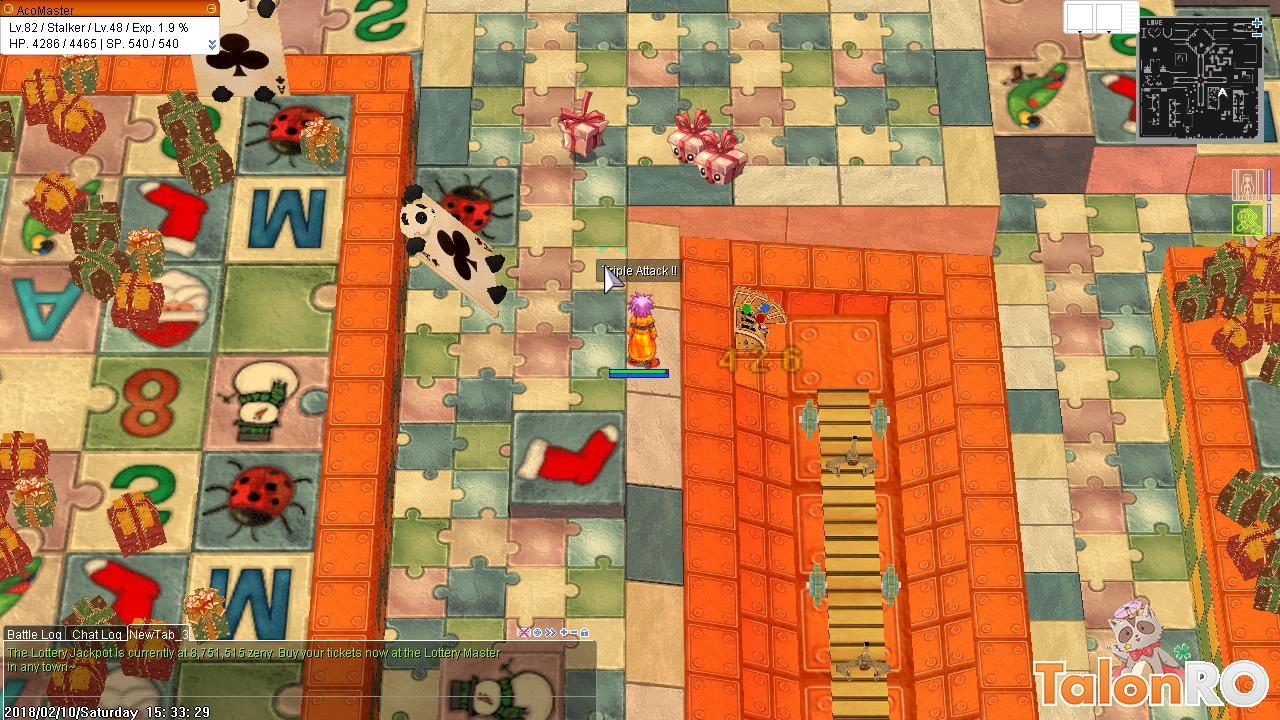myst_case: (557, 88, 609, 164), (696, 125, 748, 191), (667, 106, 713, 168)
